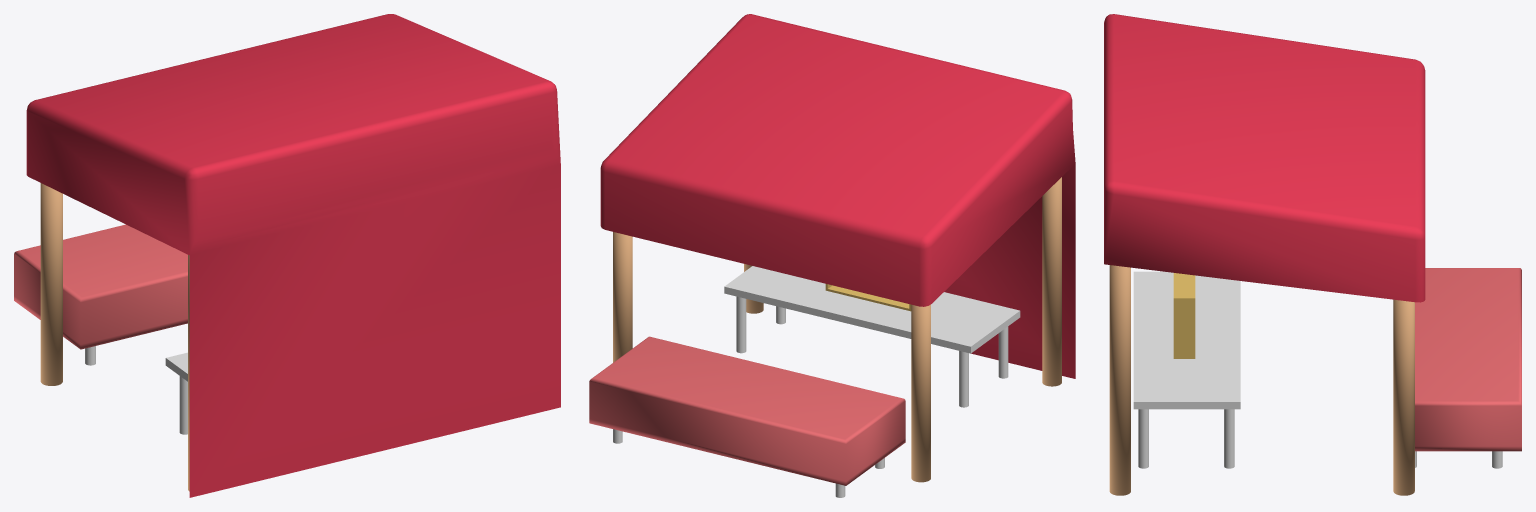
The model's file is yatai.fbx.
3 renders of one model, left to right at view 1: azimuth 30°, elevation 25°; view 2: azimuth 150°, elevation 25°; view 3: azimuth 270°, elevation 25°, orthographic. The views are drawn at different scales.
Visible parts, largest first — view 1: 平面, 平面.001, 円柱, 立方体.001; view 2: 平面, 平面.001, 立方体.001, 円柱, 円柱.001, 立方体; view 3: 平面, 平面.001, 立方体.001, 円柱.001, 円柱, 立方体.
Boxes of the visible parts, x1,y1,x2,y2 form: 平面: (26,14,560,497); 平面.001: (14,224,187,349); 円柱: (40,183,62,385); 立方体.001: (165,352,187,434); 平面: (600,14,1075,378); 平面.001: (589,336,905,485); 立方体.001: (724,266,1020,407); 円柱: (613,232,930,482); 円柱.001: (744,177,1061,386); 立方体: (825,284,911,311); 平面: (1104,14,1425,302); 平面.001: (1415,268,1521,451); 立方体.001: (1133,271,1240,468); 円柱.001: (1109,265,1130,495); 円柱: (1393,299,1414,495); 立方体: (1173,273,1195,358).
Bounding box in the file's own units: 3857 × 3239 × 3900.
